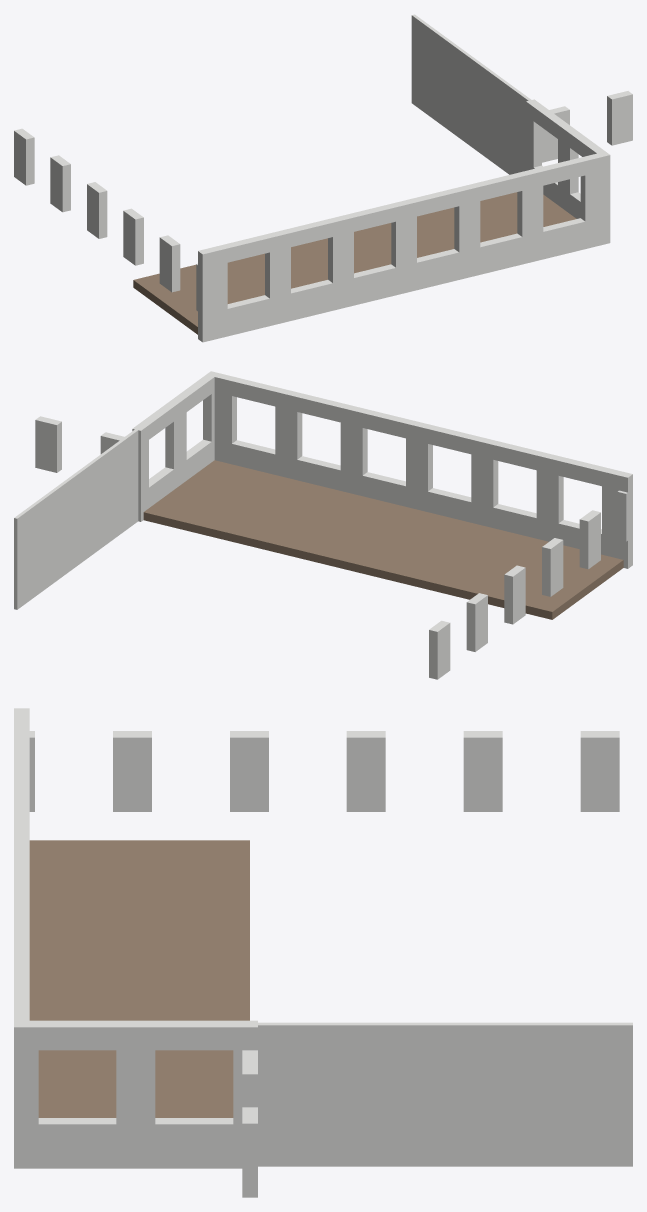
Rendered from SM_Bygg_Helgasetr_P5_V_S.fbx.
3 renders of one model, top to bottom at view 1: azimuth 30°, elevation 25°; view 2: azimuth 150°, elevation 25°; view 3: azimuth 270°, elevation 25°, orthographic. The views are drawn at different scales.
Parts seen in each view (by area): view 1: SM_Bygg_Helgasetr_P5_V_S; view 2: SM_Bygg_Helgasetr_P5_V_S; view 3: SM_Bygg_Helgasetr_P5_V_S.
Part boxes in pixels (box(x1,y1,x2,y2)): SM_Bygg_Helgasetr_P5_V_S: box(14, 14, 632, 342); SM_Bygg_Helgasetr_P5_V_S: box(14, 371, 632, 679); SM_Bygg_Helgasetr_P5_V_S: box(14, 708, 632, 1197).
Size of the model in its own units: 15.89 by 23.84 by 4.
